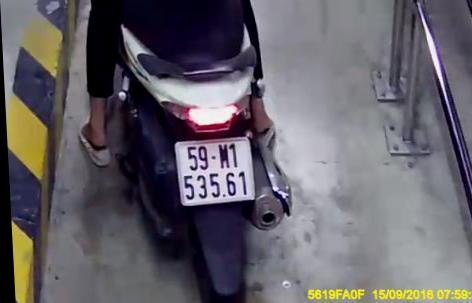License_Plate: (166, 131, 265, 211)
